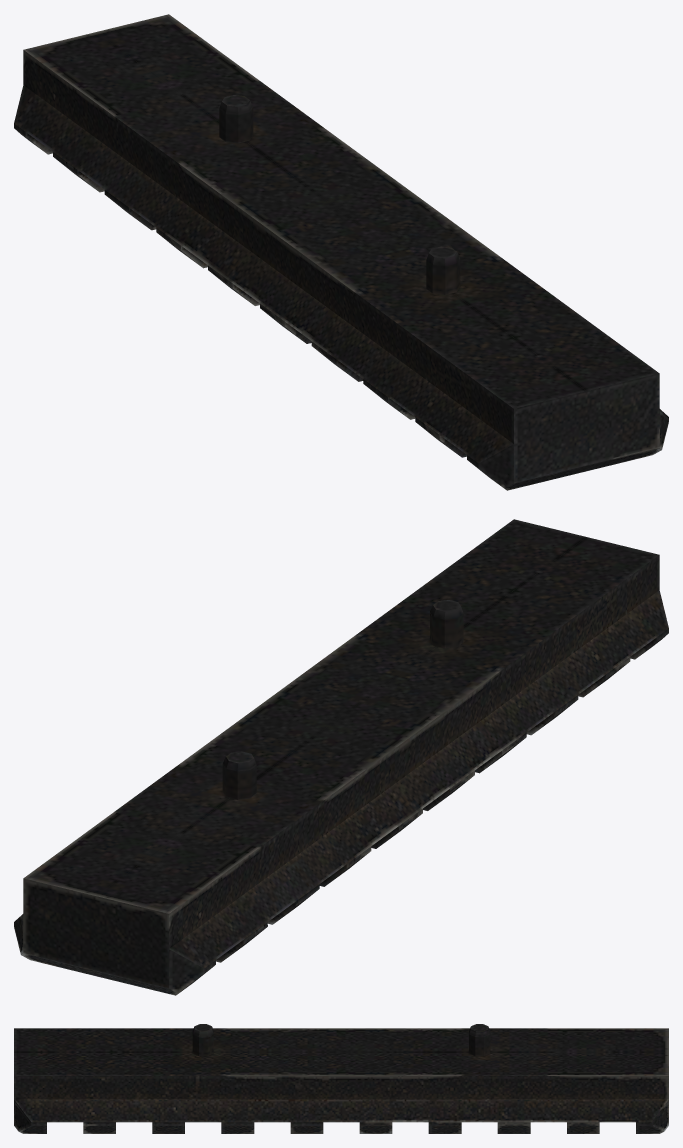
3 views of the same model, one above another, from view 1: azimuth 30°, elevation 25°; view 2: azimuth 150°, elevation 25°; view 3: azimuth 270°, elevation 25° (orthographic). The views are drawn at different scales.
Parts seen in each view (by area): view 1: TW_5b7be4645acfc400170e2dcc_PZ_Import; view 2: TW_5b7be4645acfc400170e2dcc_PZ_Import; view 3: TW_5b7be4645acfc400170e2dcc_PZ_Import.
Part boxes in pixels (x1,y1,x2,y2): TW_5b7be4645acfc400170e2dcc_PZ_Import: [14, 14, 668, 490]; TW_5b7be4645acfc400170e2dcc_PZ_Import: [14, 519, 668, 995]; TW_5b7be4645acfc400170e2dcc_PZ_Import: [14, 1024, 668, 1133].
Bounding box in the file's own units: 0.0123 × 0.0548 × 0.00753.
1 material, 1 textured.
